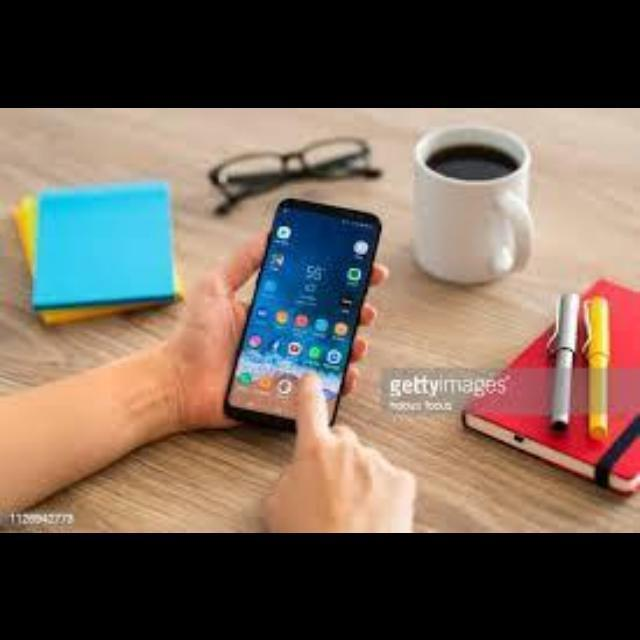phone: (213, 182, 387, 456)
